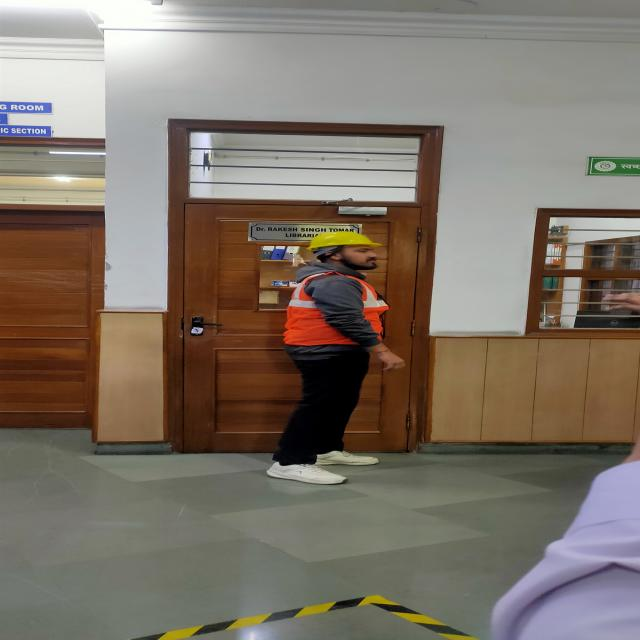safe: (268, 232, 404, 484)
